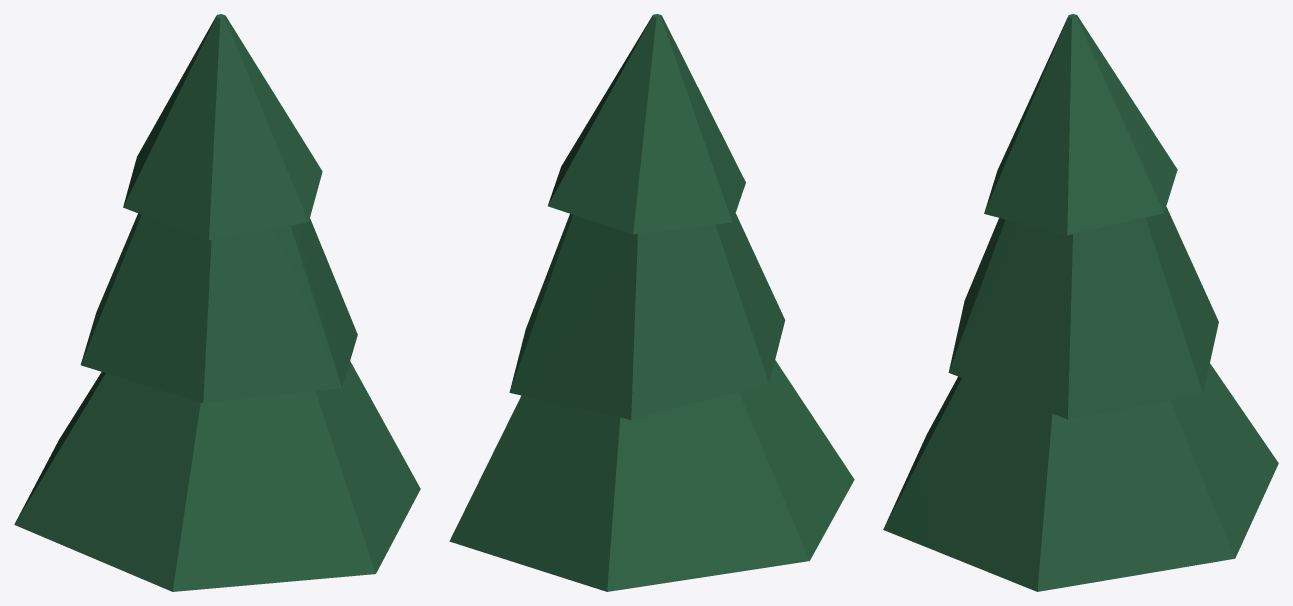
File: tree.glb
3 renders of one model, left to right at view 1: azimuth 30°, elevation 25°; view 2: azimuth 150°, elevation 25°; view 3: azimuth 270°, elevation 25°, orthographic. The views are drawn at different scales.
Parts seen in each view (by area): view 1: tree; view 2: tree; view 3: tree.
Part boxes in pixels (bbox=[...]): tree: bbox=[14, 14, 420, 591]; tree: bbox=[449, 14, 854, 591]; tree: bbox=[883, 14, 1278, 591].
Size of the model in its own units: 15.09 by 20.54 by 14.71.
